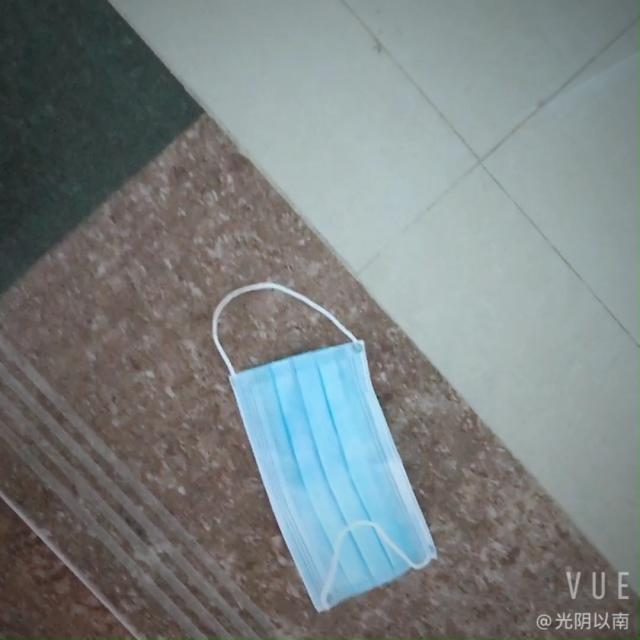non-organic waste: (230, 337, 420, 603)
